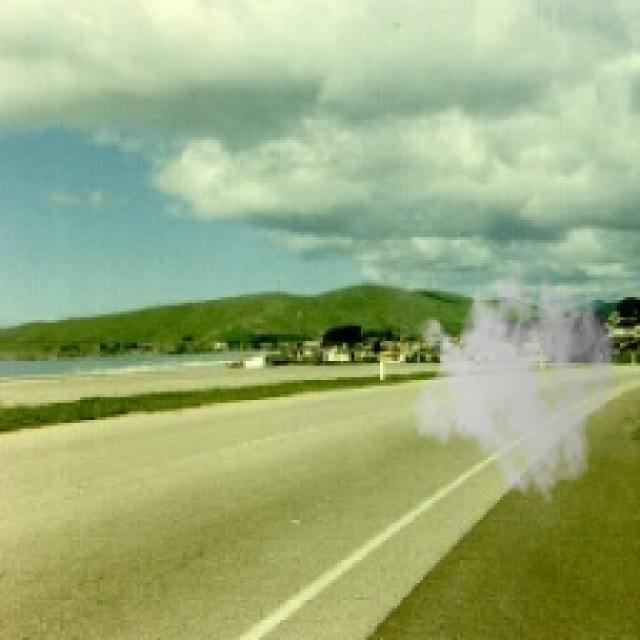Smoke: (411, 243, 620, 506)
